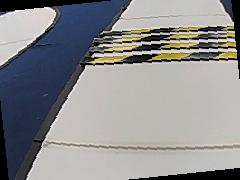bump: (78, 22, 240, 68)
